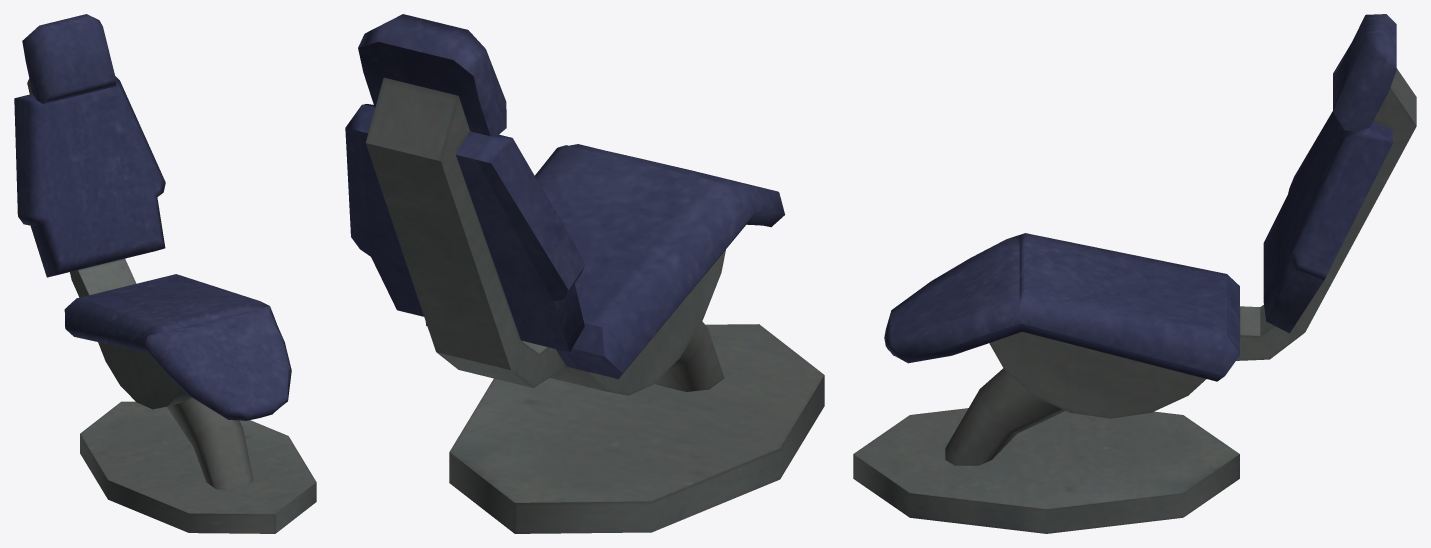
Rendered from MedBayChair.fbx.
3 renders of one model, left to right at view 1: azimuth 30°, elevation 25°; view 2: azimuth 150°, elevation 25°; view 3: azimuth 270°, elevation 25°, orthographic. The views are drawn at different scales.
Visible parts, largest first — view 1: Medbay_Chair; view 2: Medbay_Chair; view 3: Medbay_Chair.
Part boxes in pixels (bbox=[...]): Medbay_Chair: bbox=[14, 14, 316, 533]; Medbay_Chair: bbox=[345, 14, 824, 533]; Medbay_Chair: bbox=[853, 14, 1416, 533].
Bounding box in the file's own units: 67.57 × 128 × 145.
Materials: 1 (1 with a texture image).
